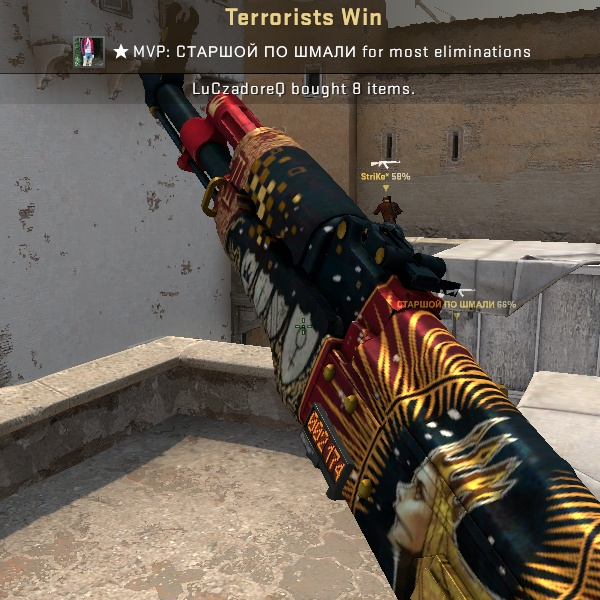t_body: (369, 191, 410, 227)
t_head: (379, 193, 395, 208)
